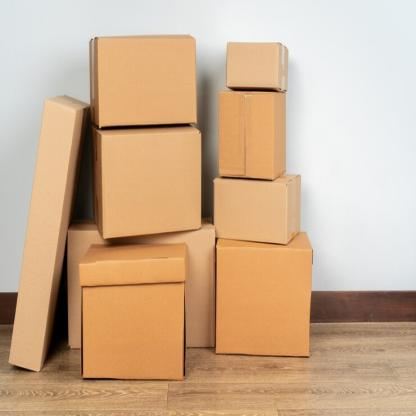box: (8, 97, 77, 373), (79, 258, 186, 380), (216, 245, 312, 358), (103, 131, 201, 241), (98, 35, 196, 128), (218, 89, 274, 180), (214, 178, 287, 247), (226, 41, 278, 88)
